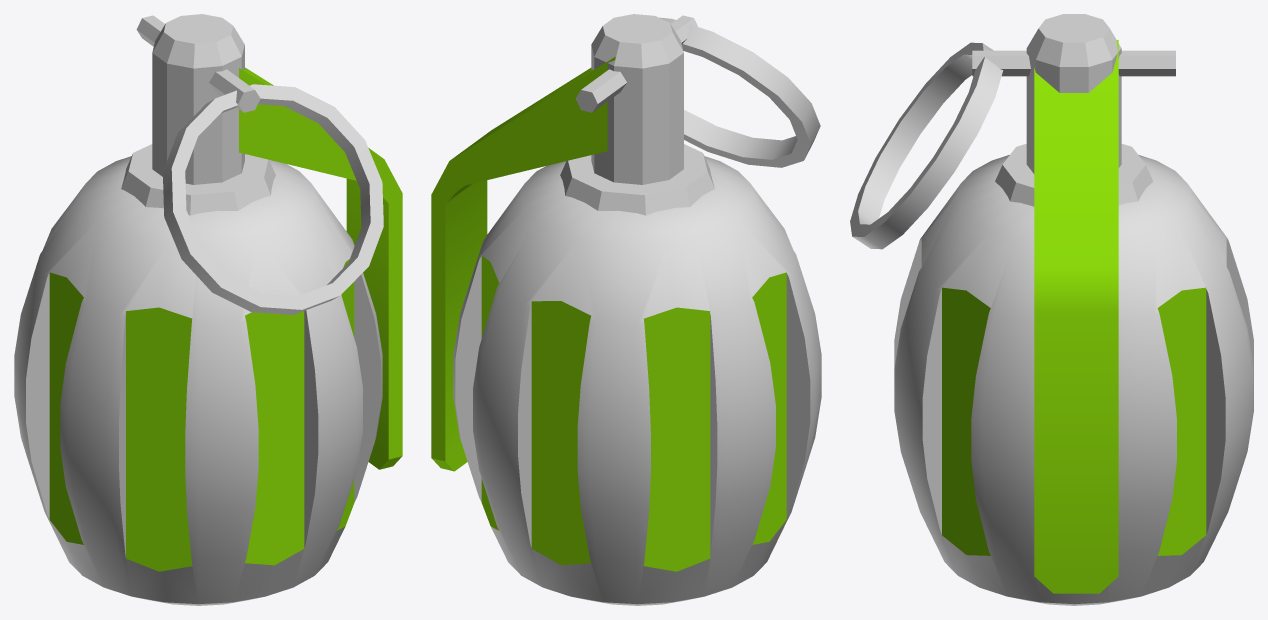
The model's file is Grenade A Mat.fbx.
The picture shows the model from 3 angles, left to right: view 1: azimuth 30°, elevation 25°; view 2: azimuth 150°, elevation 25°; view 3: azimuth 270°, elevation 25°; orthographic projection.
Visible parts, largest first — view 1: Grenade A Mat; view 2: Grenade A Mat; view 3: Grenade A Mat.
Boxes of the visible parts, box(x1,y1,x2,y2) form: Grenade A Mat: box(14, 14, 402, 605); Grenade A Mat: box(431, 14, 821, 605); Grenade A Mat: box(850, 14, 1253, 605).
Size of the model in its own units: 0.1595 by 0.2407 by 0.164.
